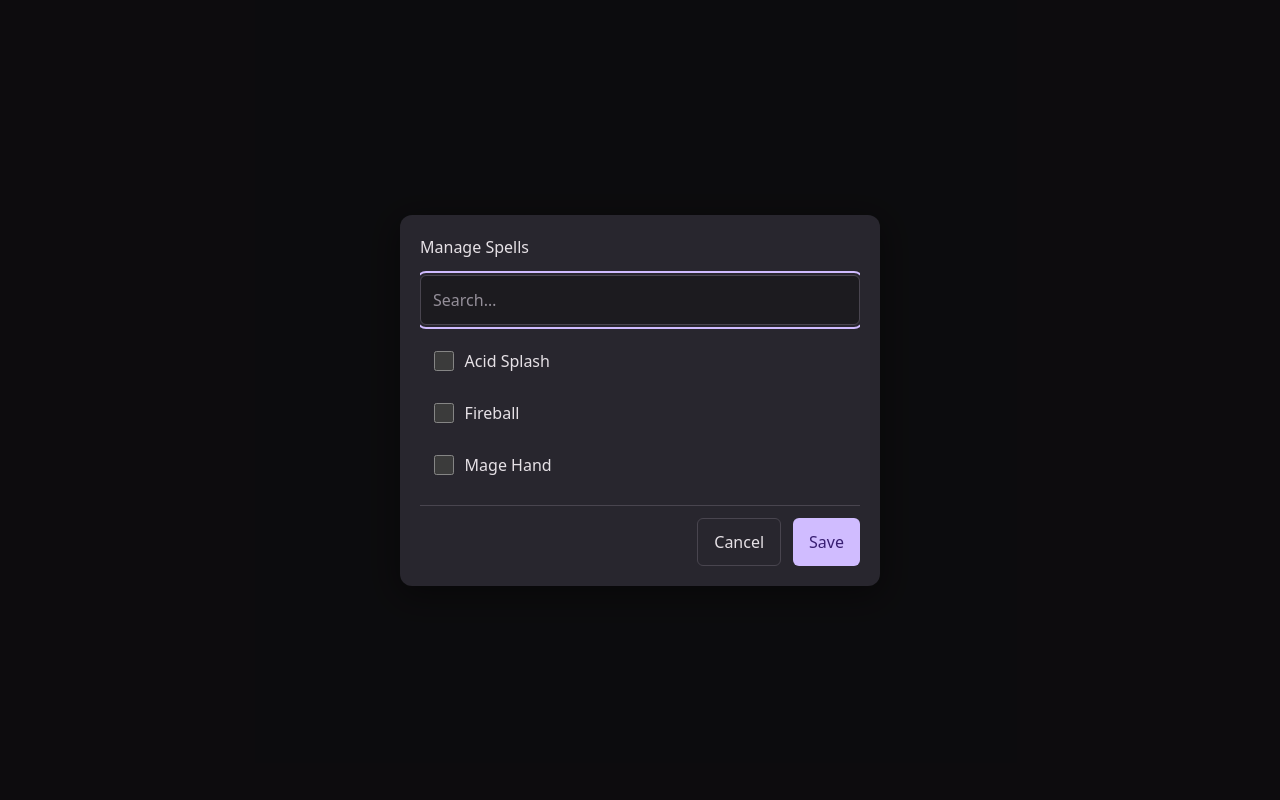
Test case: ManageAssignmentsDialog › filters items by the search box
In the search field with placeholder "Search…": (640,300) [433,276,847,324], type "acid"
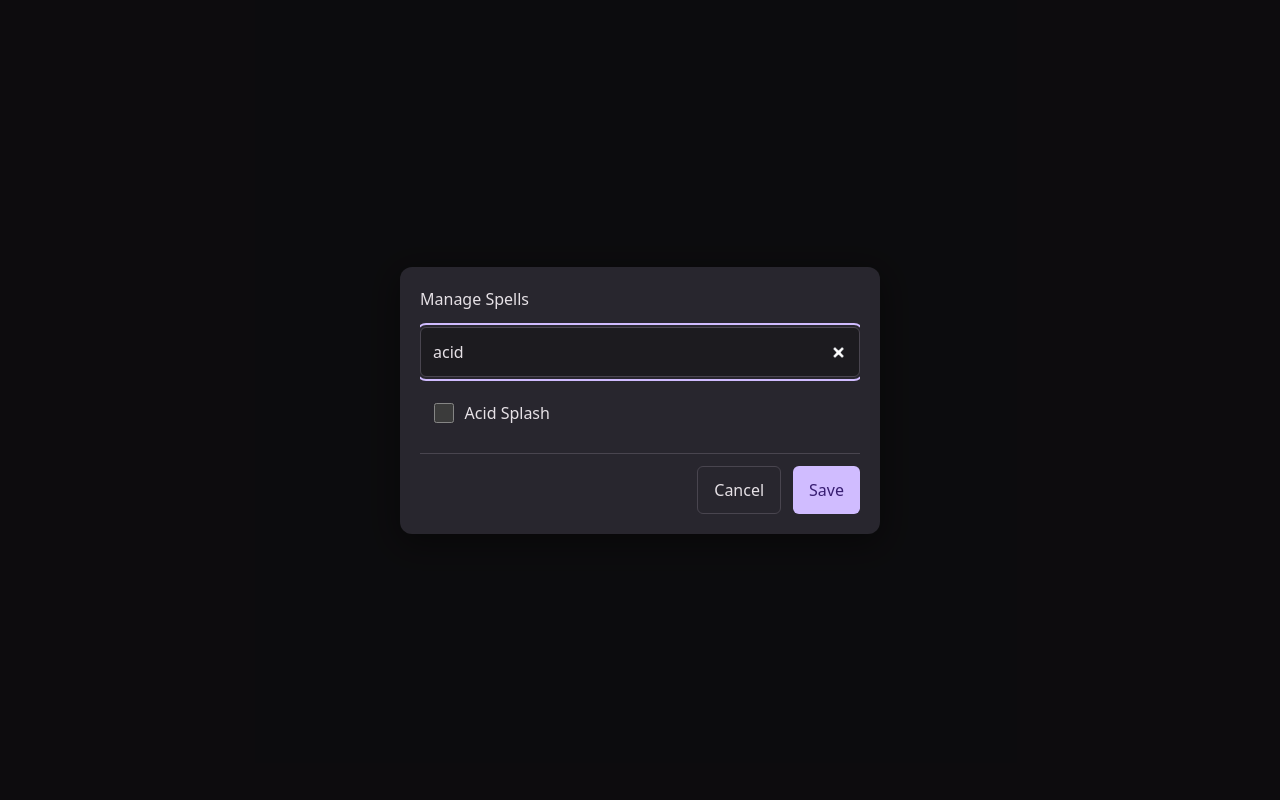
Expected: the checkbox labelled "Acid Splash" is shown, [434,402,454,422]
Expected: the label labelled "Fireball" is gone
